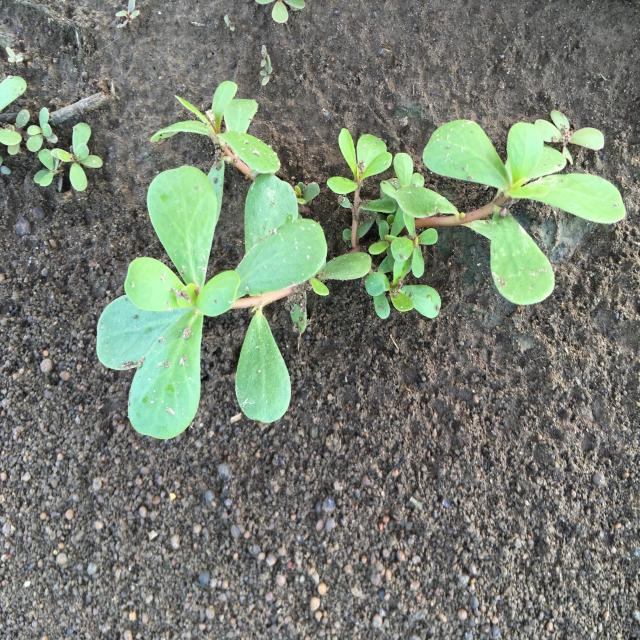Purslane: (96, 81, 626, 439), (34, 122, 103, 192), (0, 76, 58, 155)
